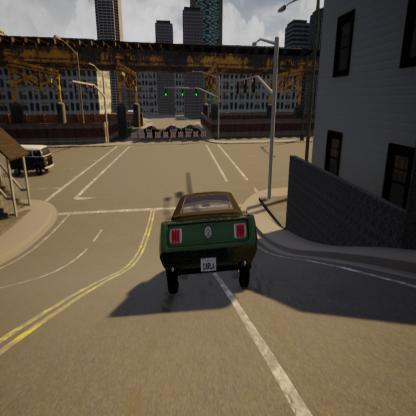Cars: (150, 166, 263, 312), (7, 138, 58, 175)
